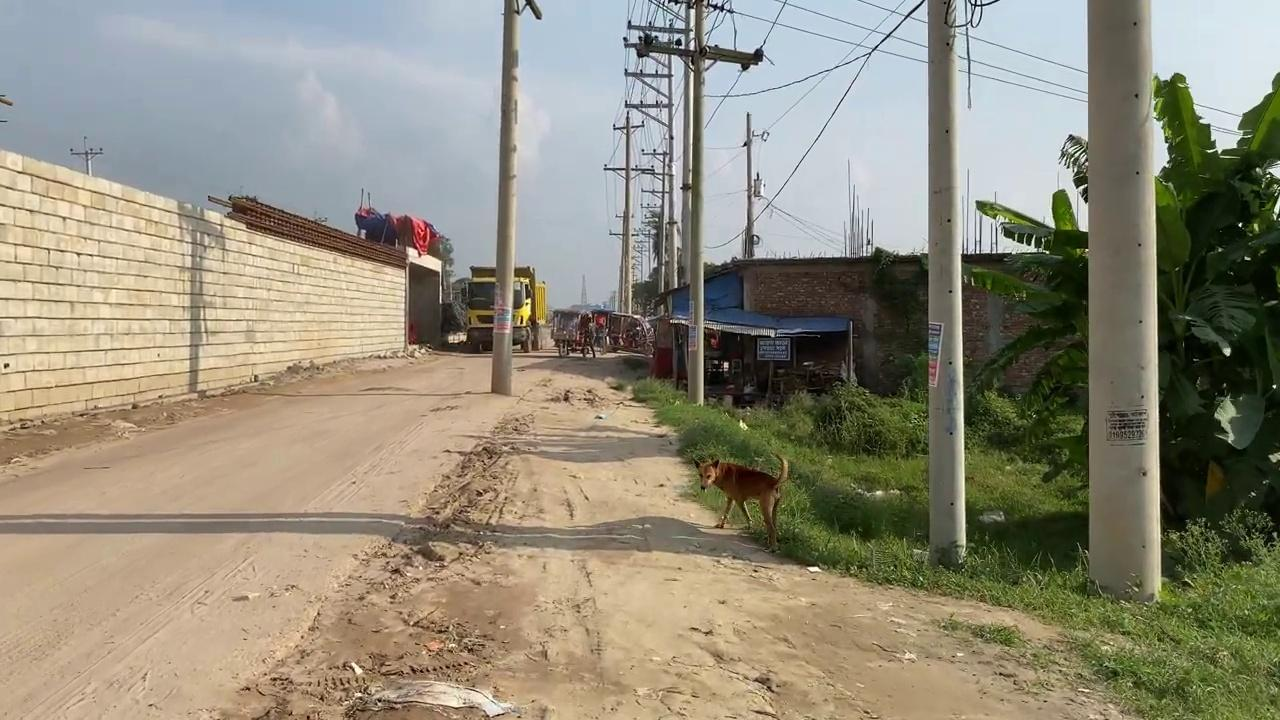Dog: (691, 451, 789, 553)
Pole: (628, 1, 765, 405), (1084, 0, 1161, 604), (924, 0, 966, 570), (489, 0, 519, 395), (687, 1, 706, 406)
Rickshaw: (462, 339, 1139, 703)
Traffic-sign: (964, 68, 1279, 546)
Tree: (450, 264, 547, 353)
Upstairs: (0, 147, 413, 423)
